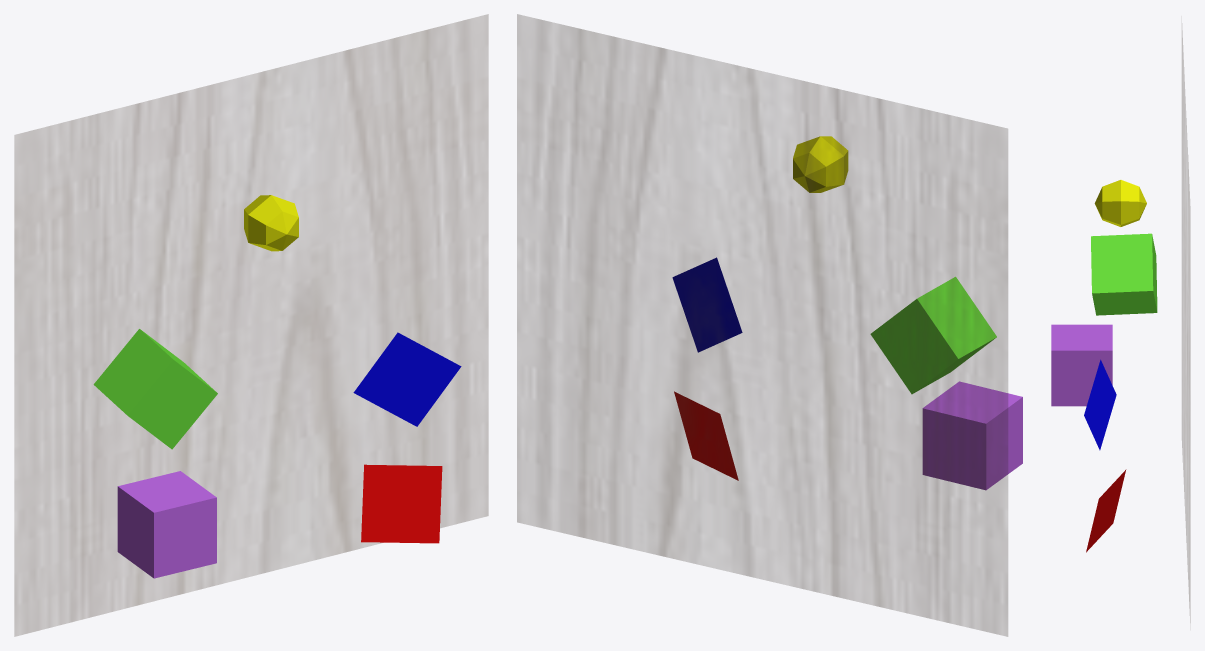
The model's file is walnut.gltf.
The picture shows the model from 3 angles, left to right: view 1: azimuth 30°, elevation 25°; view 2: azimuth 150°, elevation 25°; view 3: azimuth 270°, elevation 25°; orthographic projection. The views are drawn at different scales.
Parts seen in each view (by area): view 1: walnut.001, Cube, Cube.001, Plane.001, Plane.002, Sphere; view 2: walnut.001, Cube, Cube.001, Plane.002, Plane.001, Sphere; view 3: Cube.001, Cube, walnut.001, Sphere, Plane.002, Plane.001.
Boxes of the visible parts, x1=… form: walnut.001: x1=14, y1=14, x2=488, y2=636; Cube: x1=117, y1=471, x2=216, y2=578; Cube.001: x1=93, y1=329, x2=217, y2=449; Plane.001: x1=361, y1=464, x2=442, y2=543; Plane.002: x1=353, y1=332, x2=461, y2=426; Sphere: x1=244, y1=195, x2=298, y2=251; walnut.001: x1=517, y1=14, x2=1007, y2=636; Cube: x1=922, y1=381, x2=1022, y2=490; Cube.001: x1=870, y1=276, x2=996, y2=394; Plane.002: x1=672, y1=257, x2=742, y2=352; Plane.001: x1=674, y1=391, x2=738, y2=480; Sphere: x1=793, y1=136, x2=848, y2=192; Cube.001: x1=1091, y1=233, x2=1157, y2=315; Cube: x1=1051, y1=324, x2=1112, y2=406; walnut.001: x1=1182, y1=31, x2=1190, y2=622; Sphere: x1=1094, y1=180, x2=1146, y2=226; Plane.002: x1=1084, y1=359, x2=1116, y2=450; Plane.001: x1=1086, y1=469, x2=1126, y2=552.
Size of the model in its own units: 10.3 by 10.3 by 3.07.
6 materials, 1 textured.
